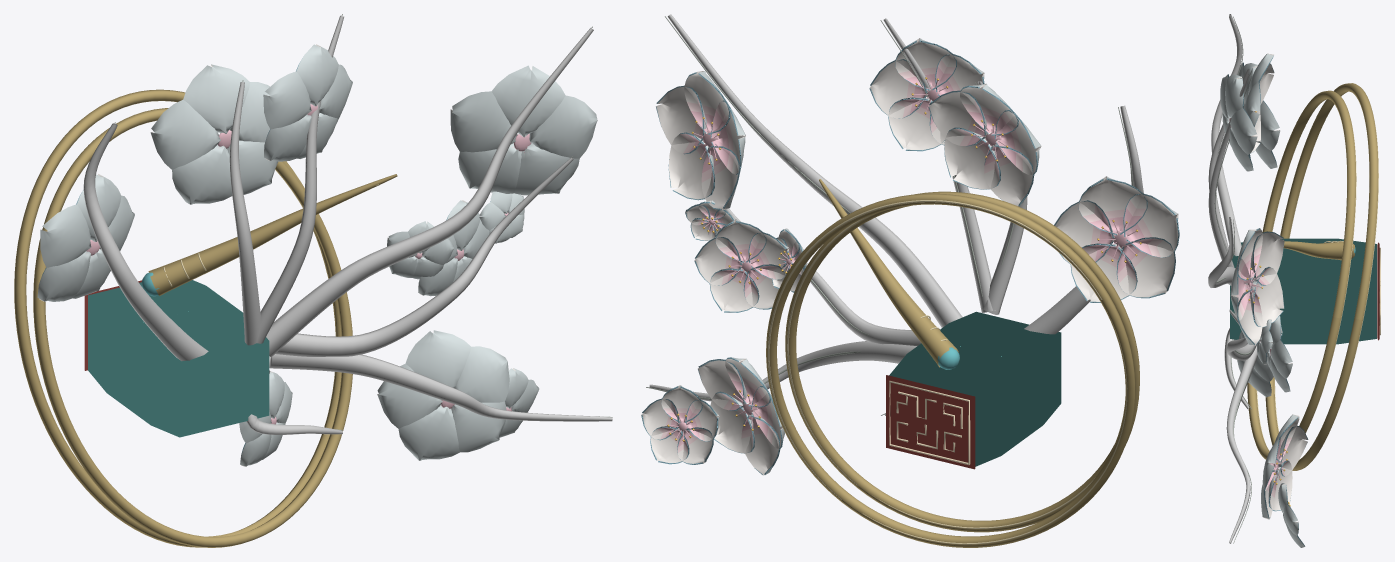
Rendered from rime_draped_sprouts.obj.
3 views of the same model, side by side, from view 1: azimuth 30°, elevation 25°; view 2: azimuth 150°, elevation 25°; view 3: azimuth 270°, elevation 25° (orthographic). The views are drawn at different scales.
Visible parts, largest first — view 1: rime_draped_sprouts; view 2: rime_draped_sprouts; view 3: rime_draped_sprouts.
Part boxes in pixels (x1,y1,x2,y2): rime_draped_sprouts: (14,14,612,547); rime_draped_sprouts: (641,14,1179,547); rime_draped_sprouts: (1208,14,1380,547).
Bounding box in the file's own units: 1.46 × 1.28 × 0.4817.
